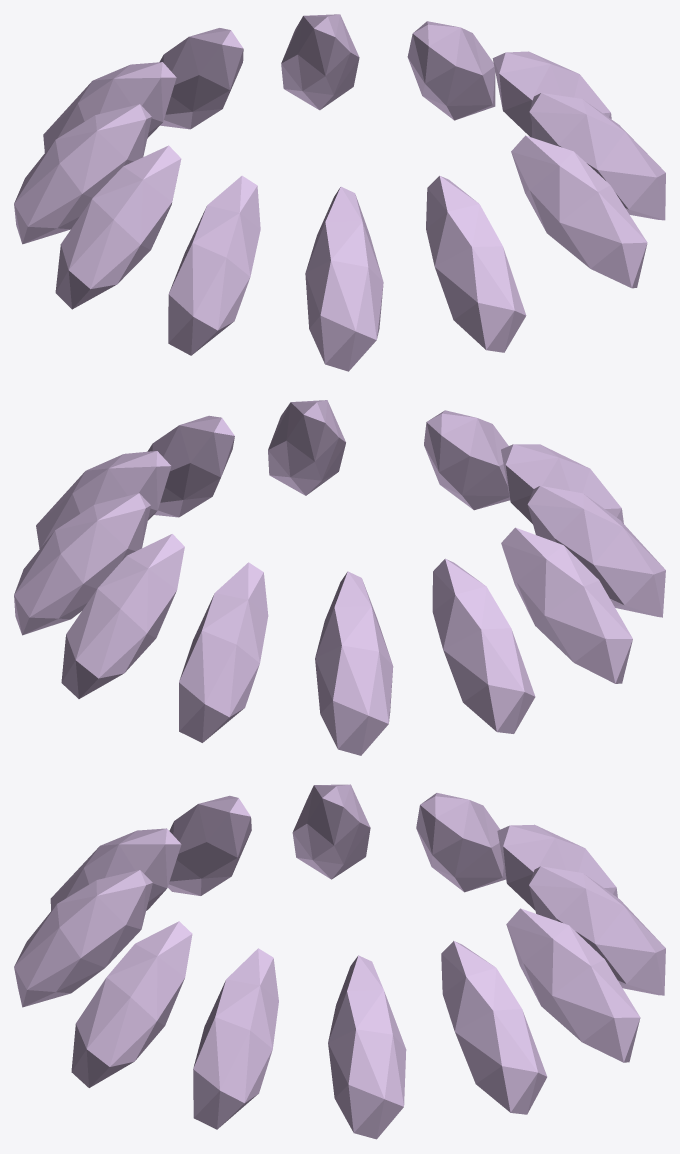
File: cristal_curcit.fbx
3 views of the same model, one above another, from view 1: azimuth 30°, elevation 25°; view 2: azimuth 150°, elevation 25°; view 3: azimuth 270°, elevation 25° (orthographic).
Visible parts, largest first — view 1: Icosphere; view 2: Icosphere; view 3: Icosphere.
Part boxes in pixels (x1=…): Icosphere: x1=14, y1=14, x2=665, y2=371; Icosphere: x1=14, y1=400, x2=665, y2=755; Icosphere: x1=14, y1=784, x2=665, y2=1139.
Bounding box in the file's own units: 521 × 119 × 523.
